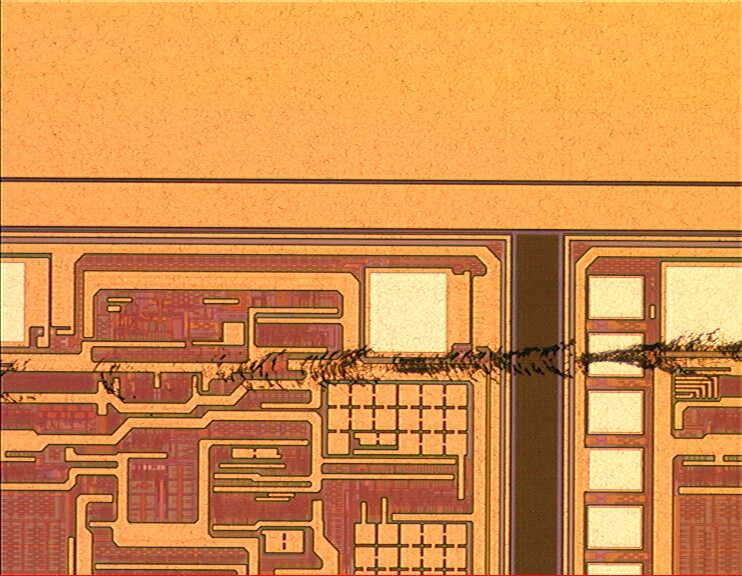SCRATCH: (1, 326, 742, 415)
